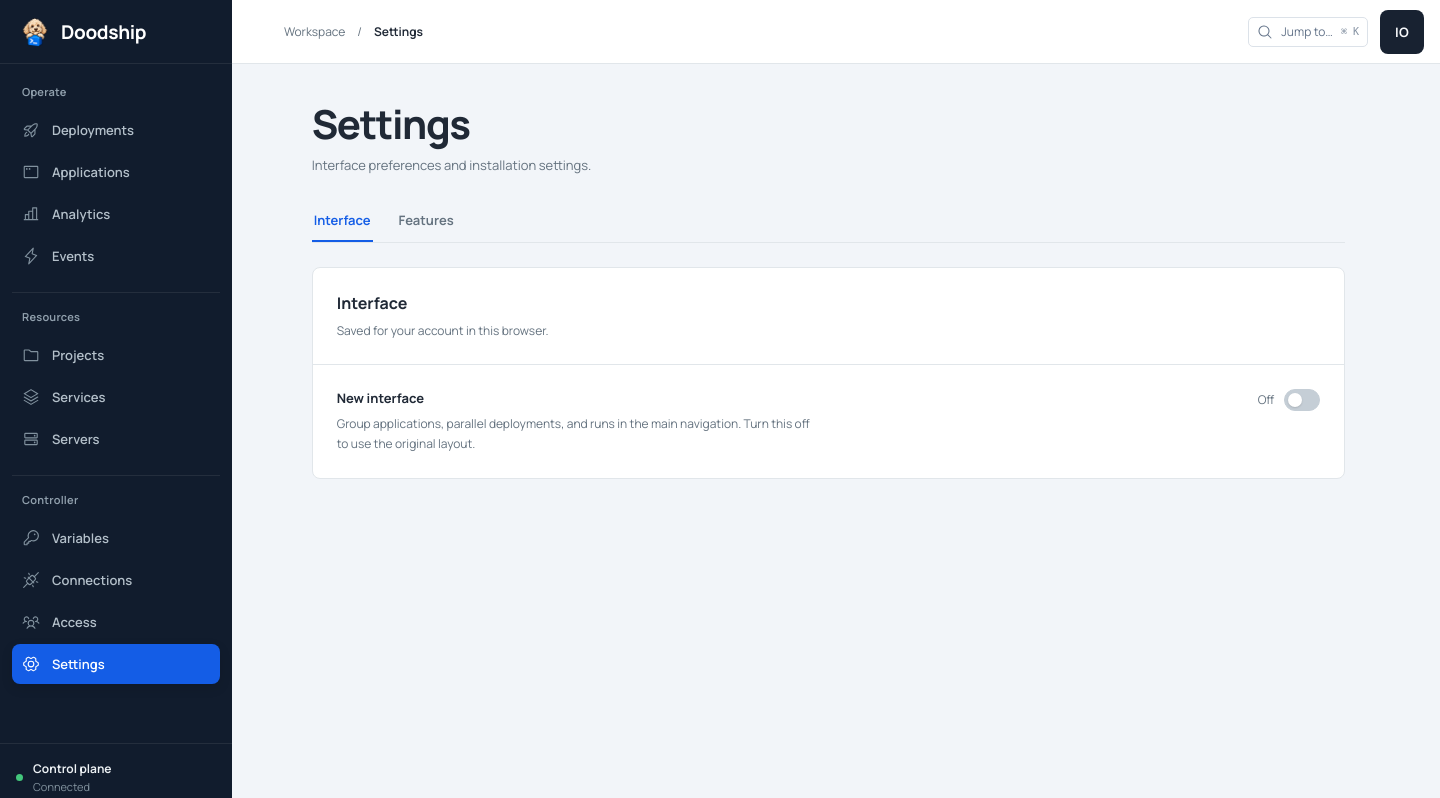
Test: keeps controller feature settings separate from a member's interface preference
Expected: the switch labelled "New interface" is shown, [337,389,424,407]
Click the tab "Features" at (426,221), box [397,200,456,242]
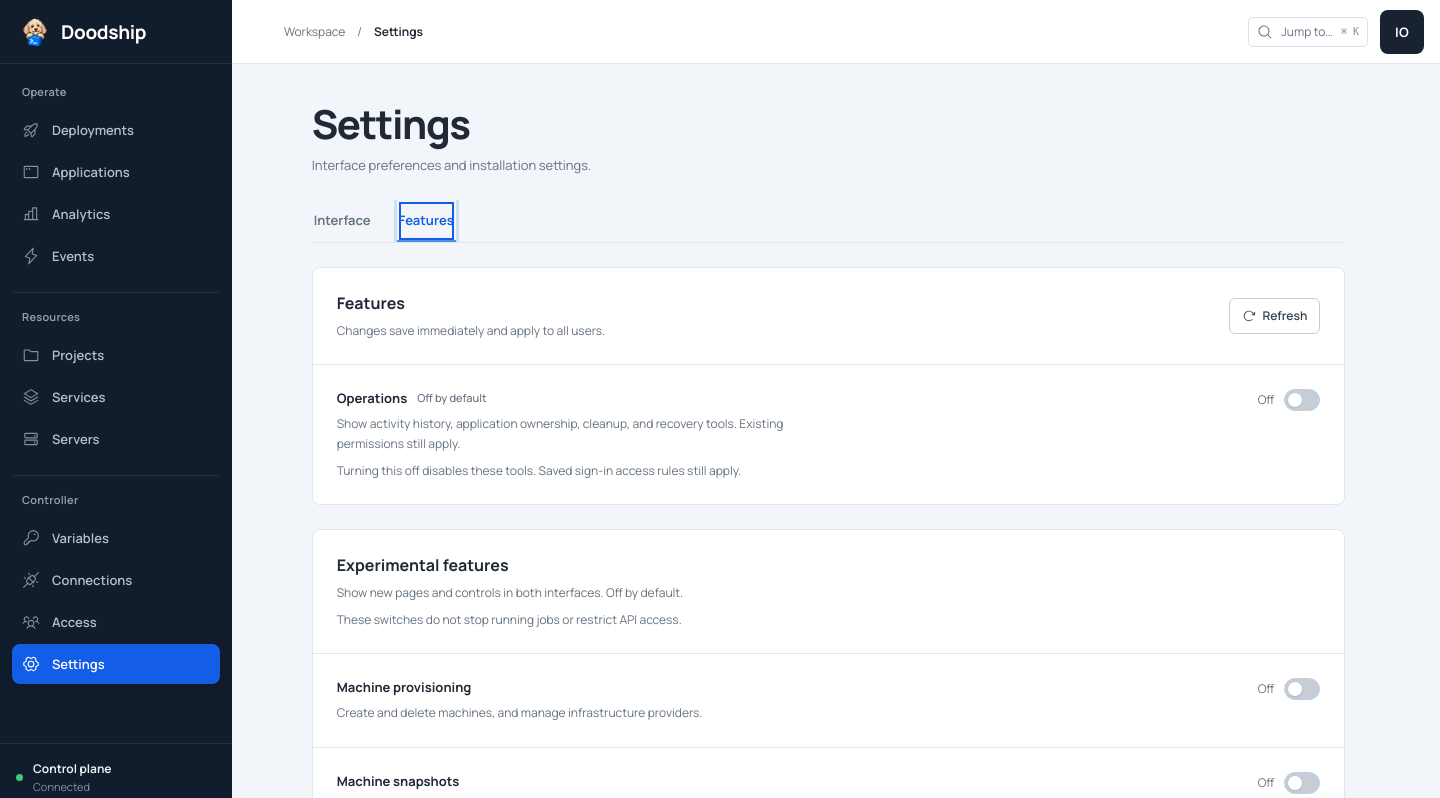
Expected: the switch labelled "Operations" is enabled, [337,389,407,407]
Click the tab "Interface" at (342,221), box [312,200,373,242]
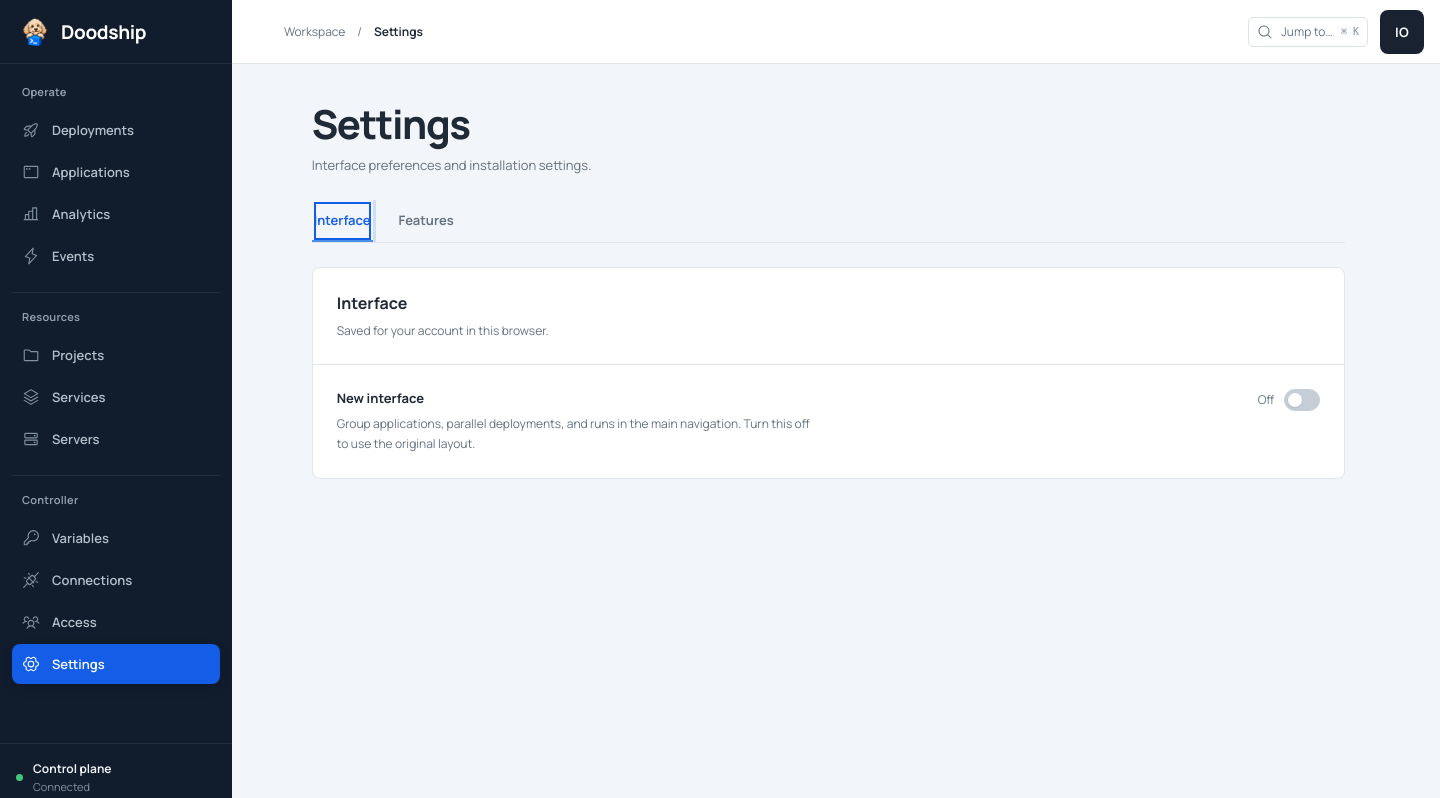
Click the switch labelled "New interface" at (380,398), box [337,389,424,407]
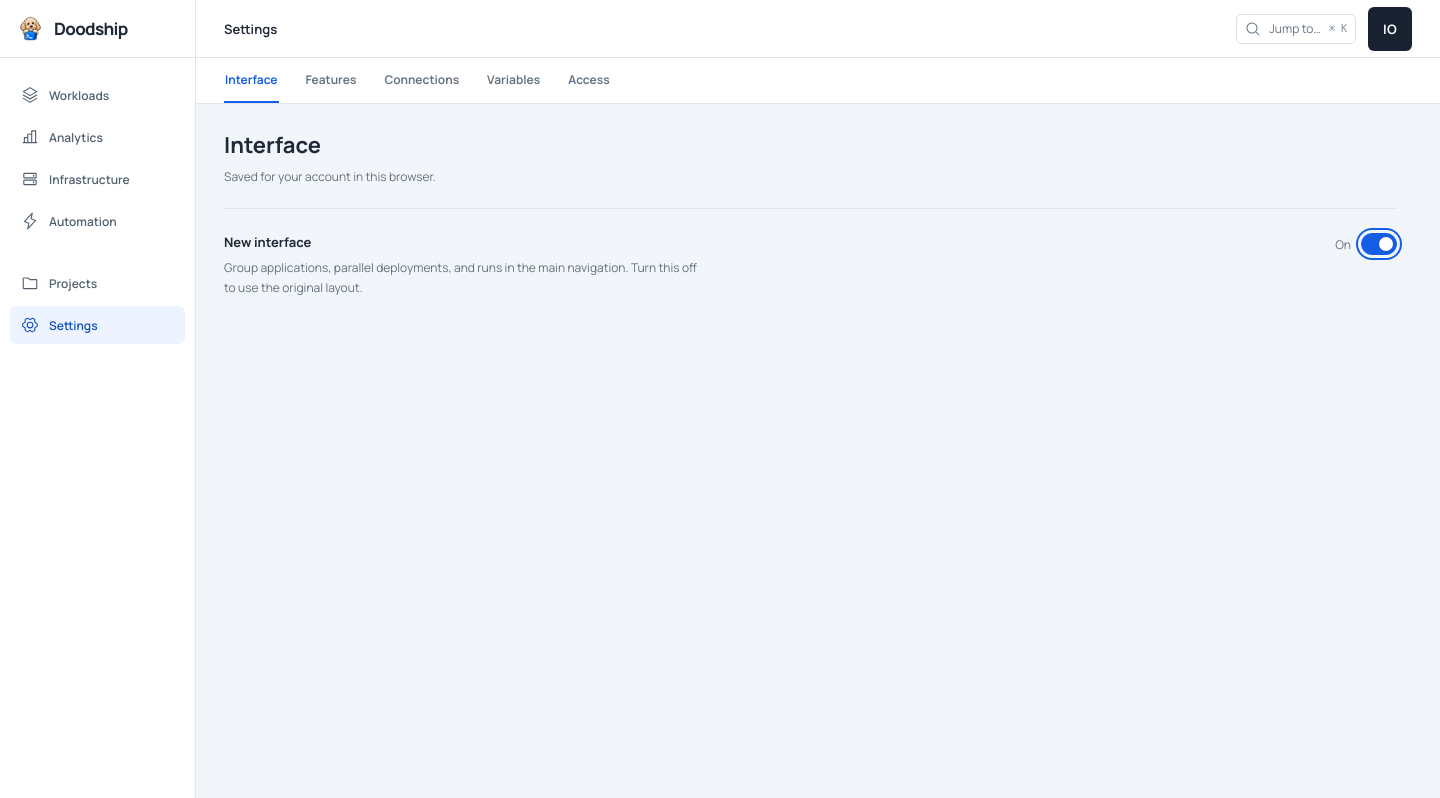
Now the link "Workloads" is shown, box [21,86,109,104]
